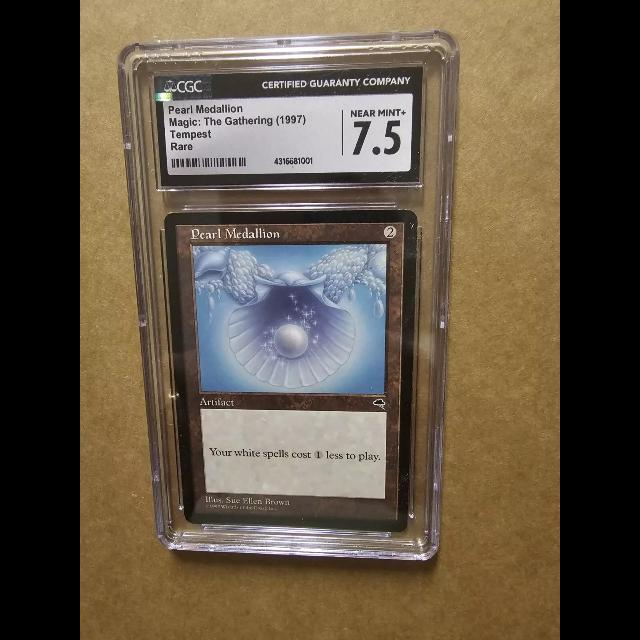card: (163, 210, 418, 534)
cgc_label: (153, 65, 422, 187)
cgc_slab: (115, 30, 462, 561)
